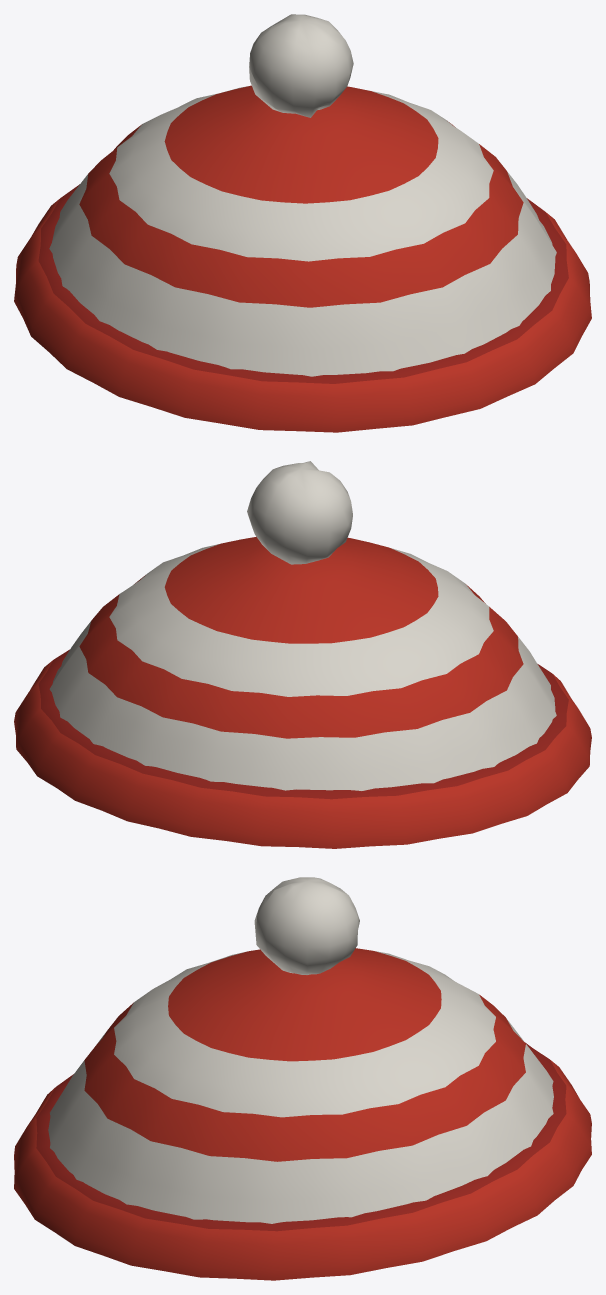
File: keeper-hat.glb
The picture shows the model from 3 angles, top to bottom: view 1: azimuth 30°, elevation 25°; view 2: azimuth 150°, elevation 25°; view 3: azimuth 270°, elevation 25°; orthographic projection.
Visible parts, largest first — view 1: keeper_hat_mesh; view 2: keeper_hat_mesh; view 3: keeper_hat_mesh.
Part boxes in pixels (x1,y1,x2,y2): keeper_hat_mesh: (14, 14, 591, 432); keeper_hat_mesh: (14, 461, 591, 848); keeper_hat_mesh: (14, 877, 591, 1280).
Size of the model in its own units: 0.8978 by 0.5 by 0.8929.
